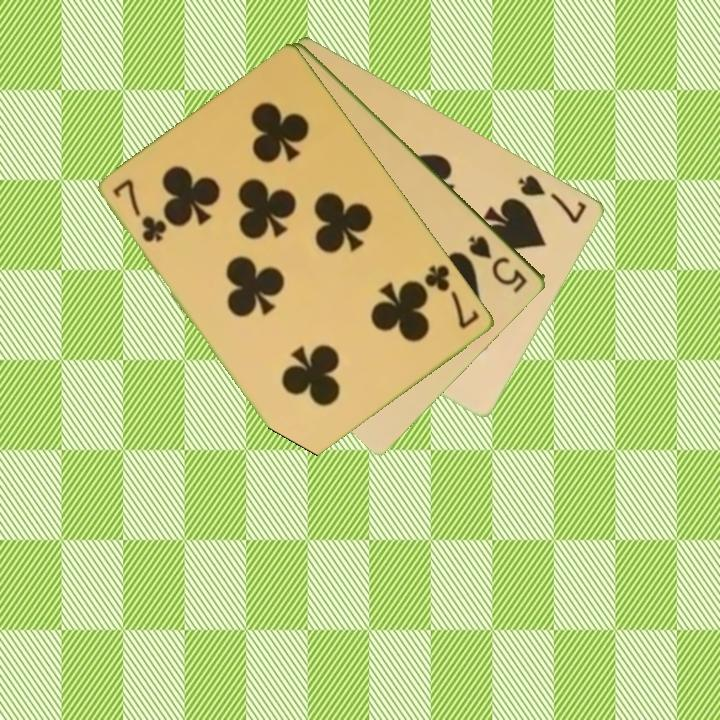5s: (464, 231, 531, 296)
7c: (421, 261, 483, 332), (109, 175, 171, 246)
7s: (515, 171, 590, 227)
